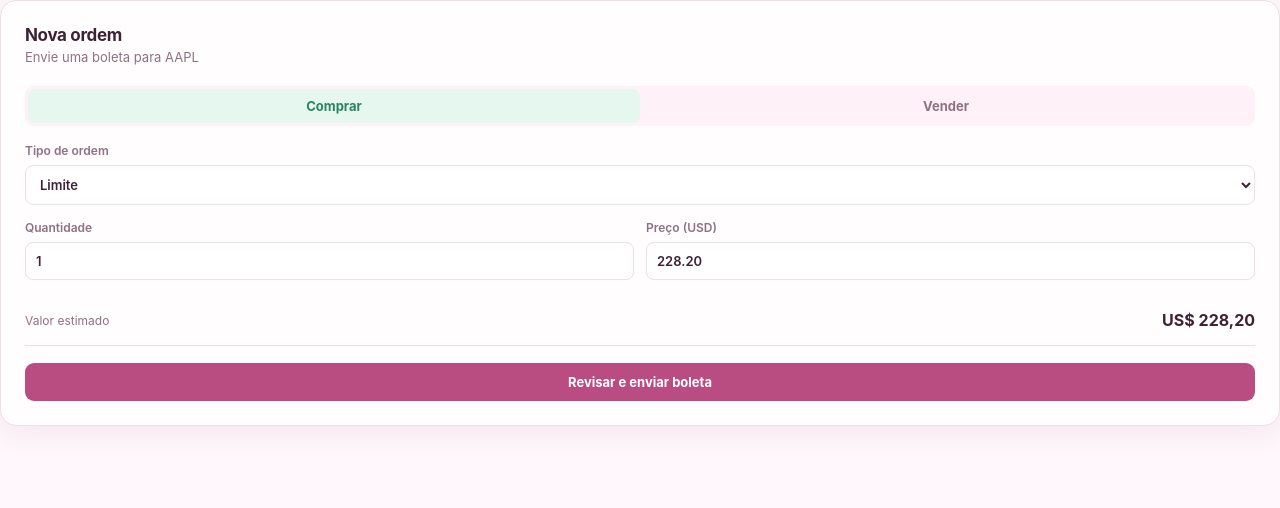
Test: offers explicit conflict cancellation without resubmitting the rejected order
The width and height of the screenshot is (1280, 508).
Click the button "Vender": (946, 106) top-left (640, 89), bottom-right (1252, 123)
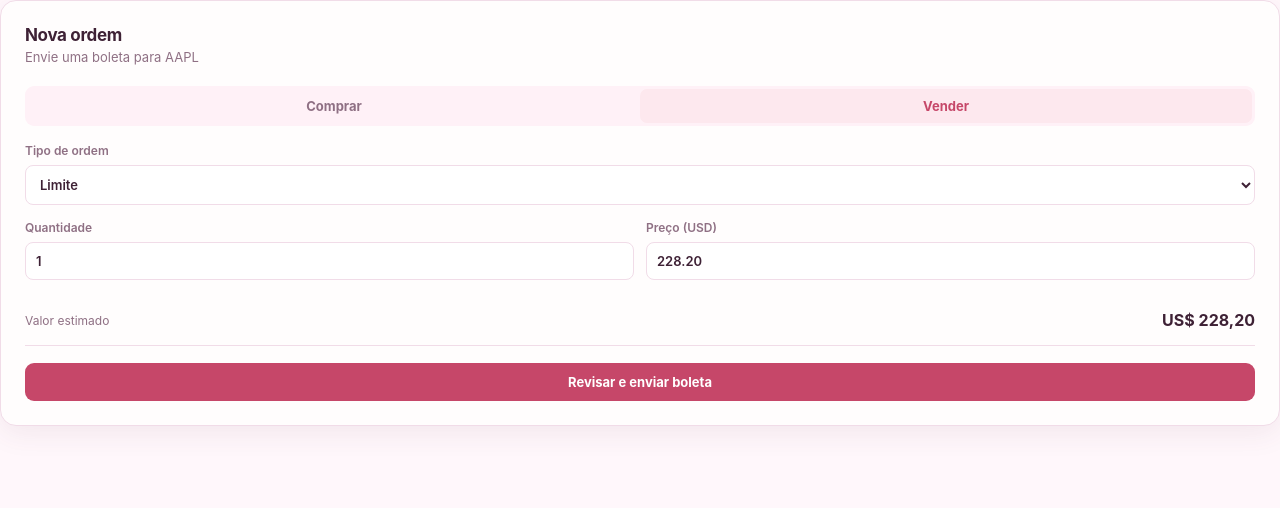
Click the button "Revisar e enviar boleta": (640, 382) top-left (25, 363), bottom-right (1255, 401)
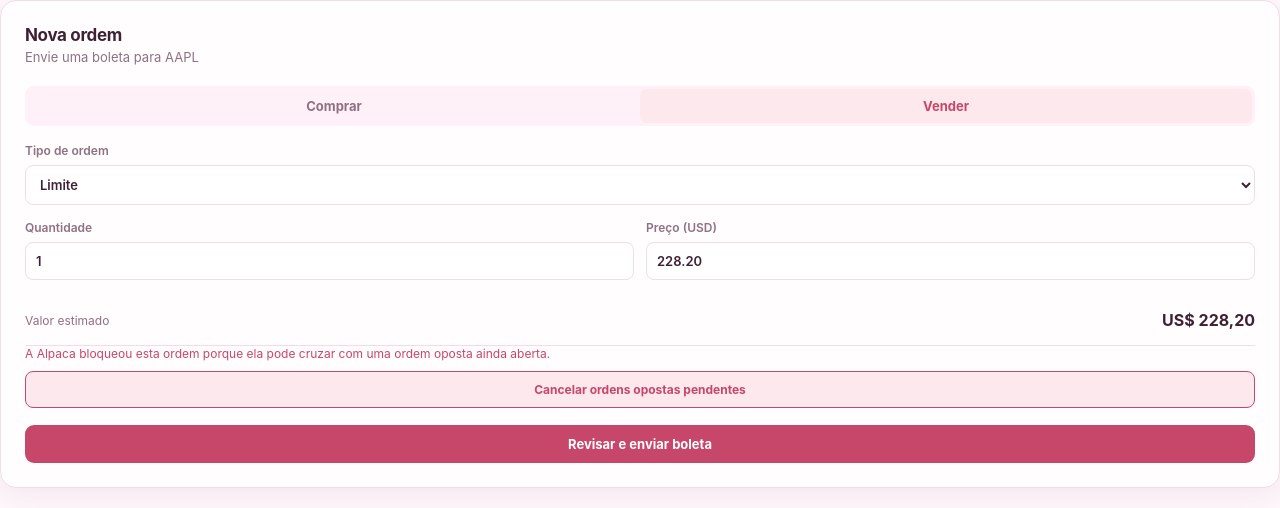
Expected: the message shows "A Alpaca bloqueou esta ordem", top-left (25, 346), bottom-right (550, 361)
Click the button "Cancelar ordens opostas pendentes": (640, 390) top-left (25, 371), bottom-right (1255, 408)
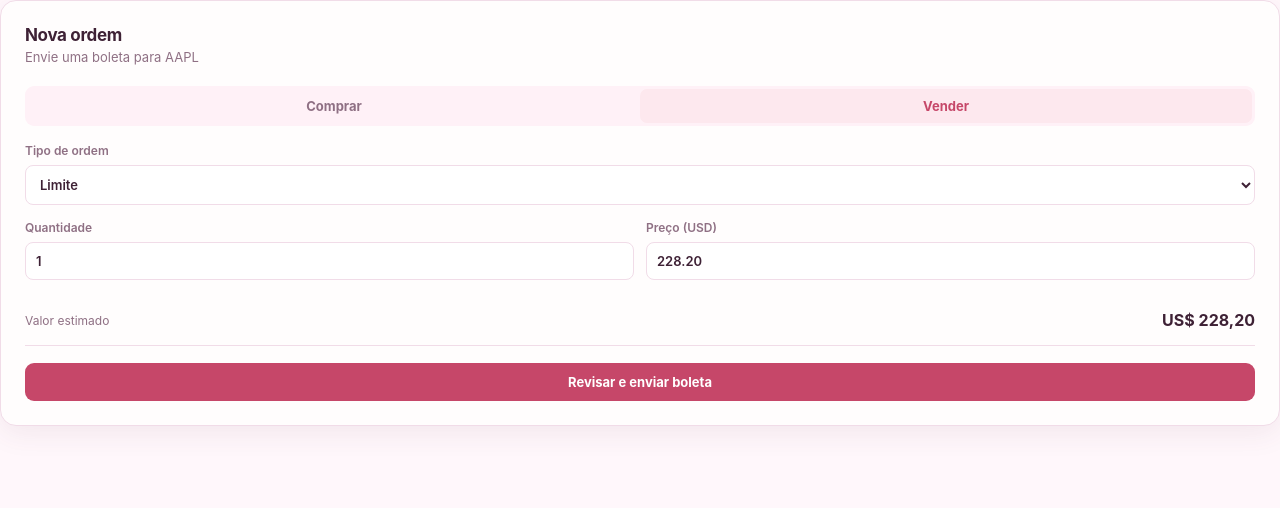
Expected: the message is gone
